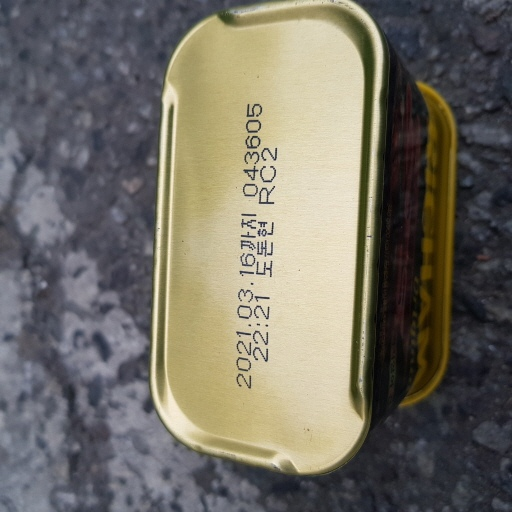Metal_2: (151, 4, 457, 479)
